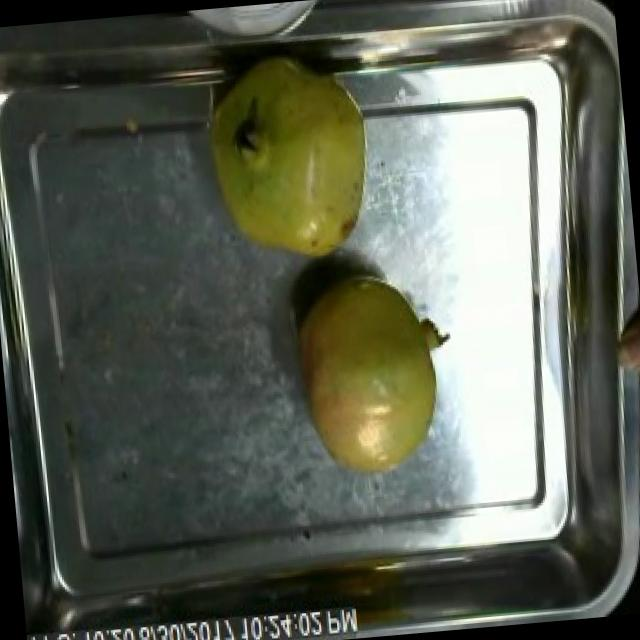fruit: (182, 39, 394, 288), (282, 256, 468, 494), (609, 294, 640, 395)
